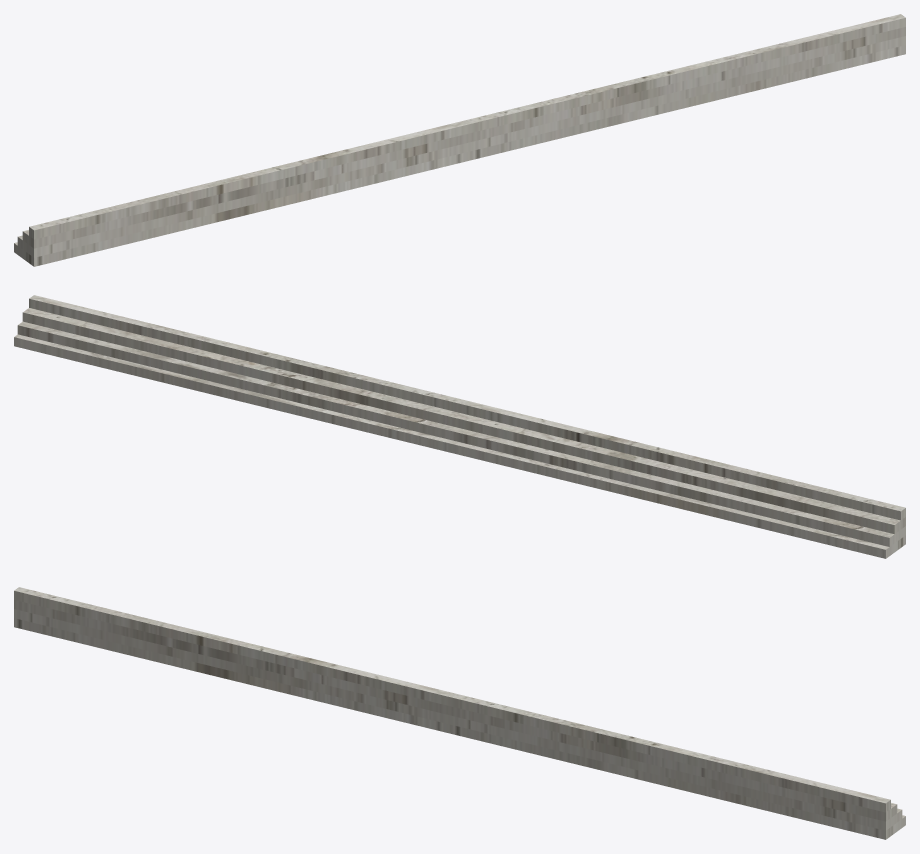
Rendered from SM_Arch_Cornice_01.glb.
3 views of the same model, one above another, from view 1: azimuth 30°, elevation 25°; view 2: azimuth 150°, elevation 25°; view 3: azimuth 330°, elevation 25° (orthographic).
Parts seen in each view (by area): view 1: SM_Arch_Cornice_01; view 2: SM_Arch_Cornice_01; view 3: SM_Arch_Cornice_01.
Boxes of the visible parts, x1,y1,x2,y2 form: SM_Arch_Cornice_01: (14, 14, 905, 266); SM_Arch_Cornice_01: (14, 295, 905, 558); SM_Arch_Cornice_01: (14, 587, 905, 839).
Size of the model in its own units: 2 by 0.08 by 0.08.
1 material, 1 textured.
